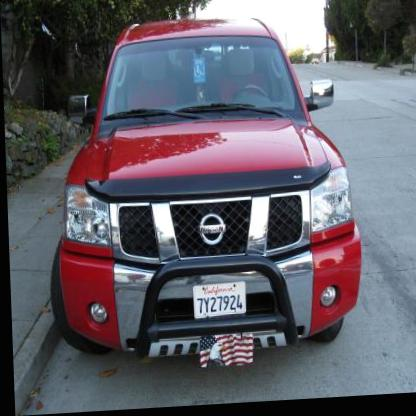License_Plate: (193, 282, 247, 319)
